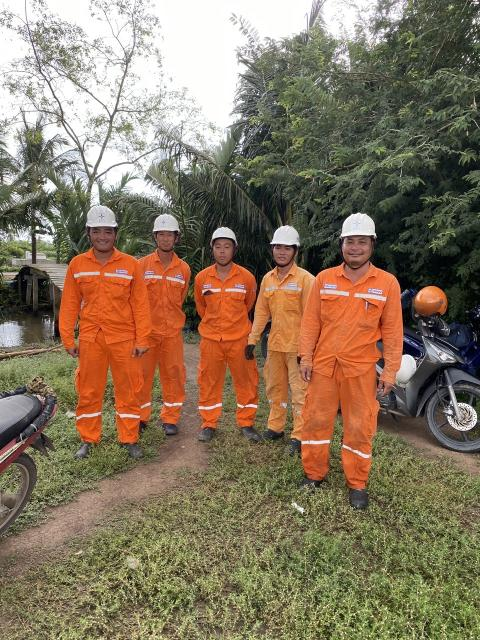helmet: (75, 203, 129, 233), (338, 207, 380, 242), (268, 222, 308, 250), (148, 210, 185, 236), (208, 228, 239, 242)
shoes: (233, 418, 263, 448), (340, 488, 376, 513), (293, 472, 326, 498), (121, 434, 149, 463), (158, 410, 185, 440), (280, 432, 307, 457), (193, 423, 222, 446), (75, 437, 97, 460), (262, 426, 281, 445), (136, 413, 149, 439)
